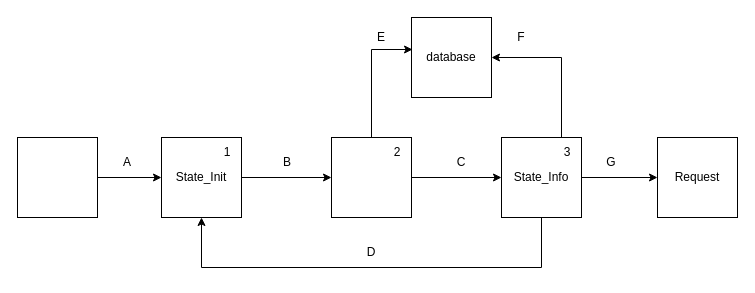
This 755x293 diagram has some shape labels left out. Here are the shapes that lost their labels. From the top down, the box of each, then its label:
(16, 136, 98, 218): open_file
(330, 136, 412, 218): State_Cache
